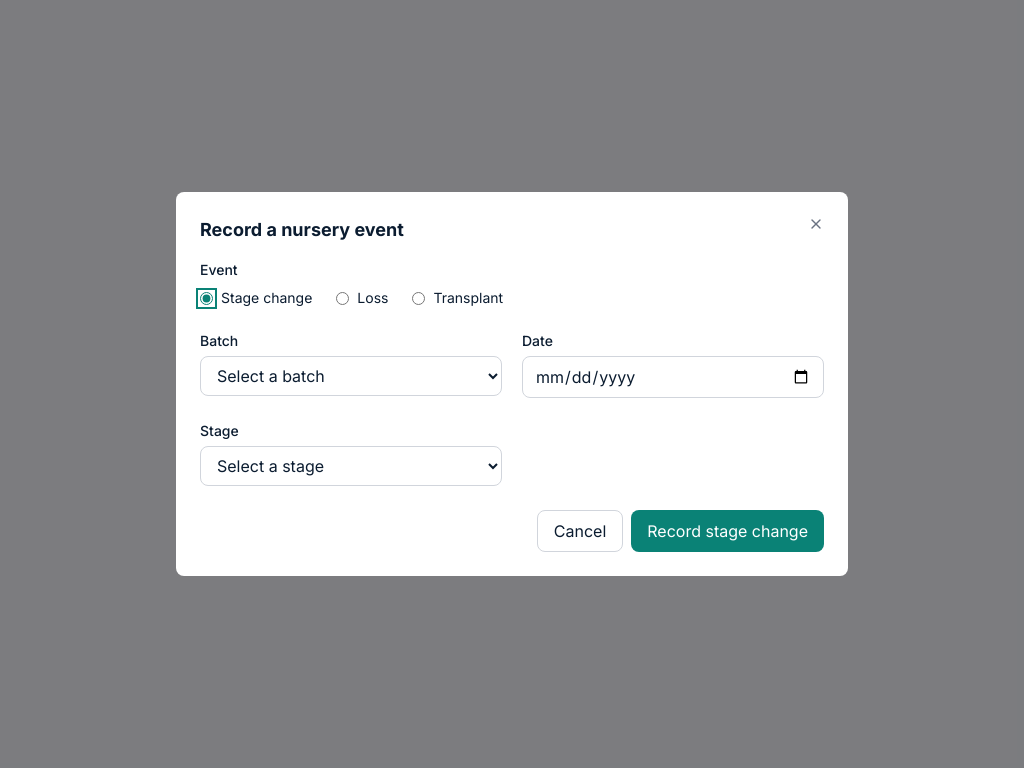
Test: the record a nursery event dialog › validates the fields of the chosen event
Click the radio button labelled "Loss" at (343, 298), box [336,292,349,304]
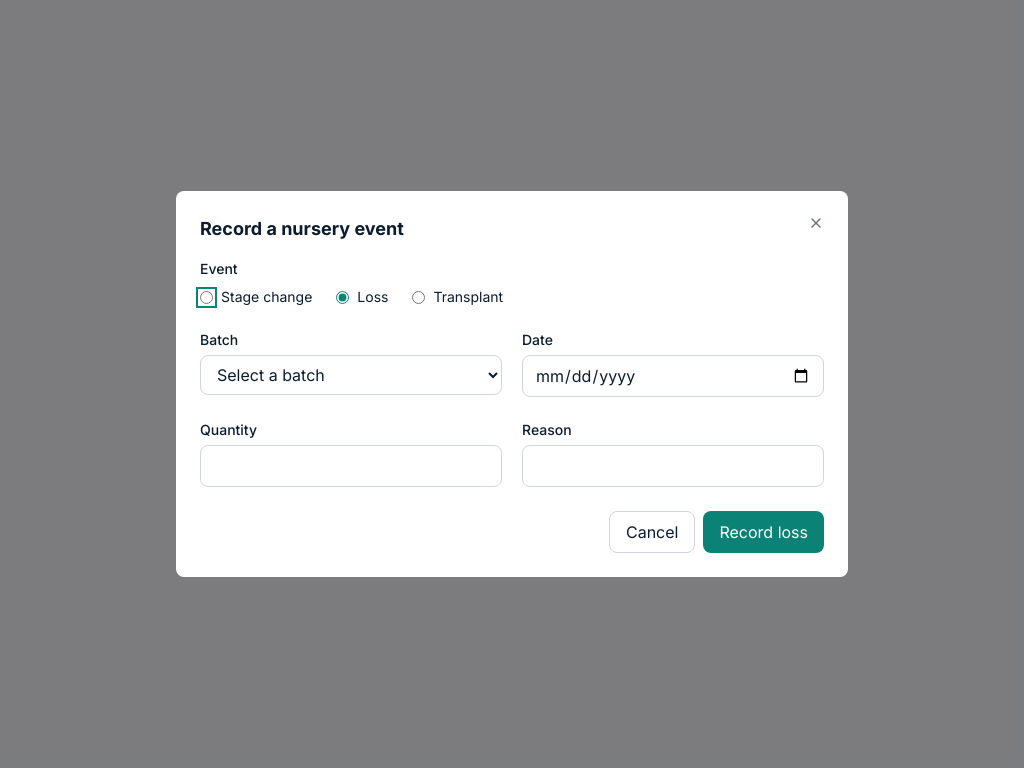
Click the button "Record loss" at (764, 532), box [704,511,824,553]
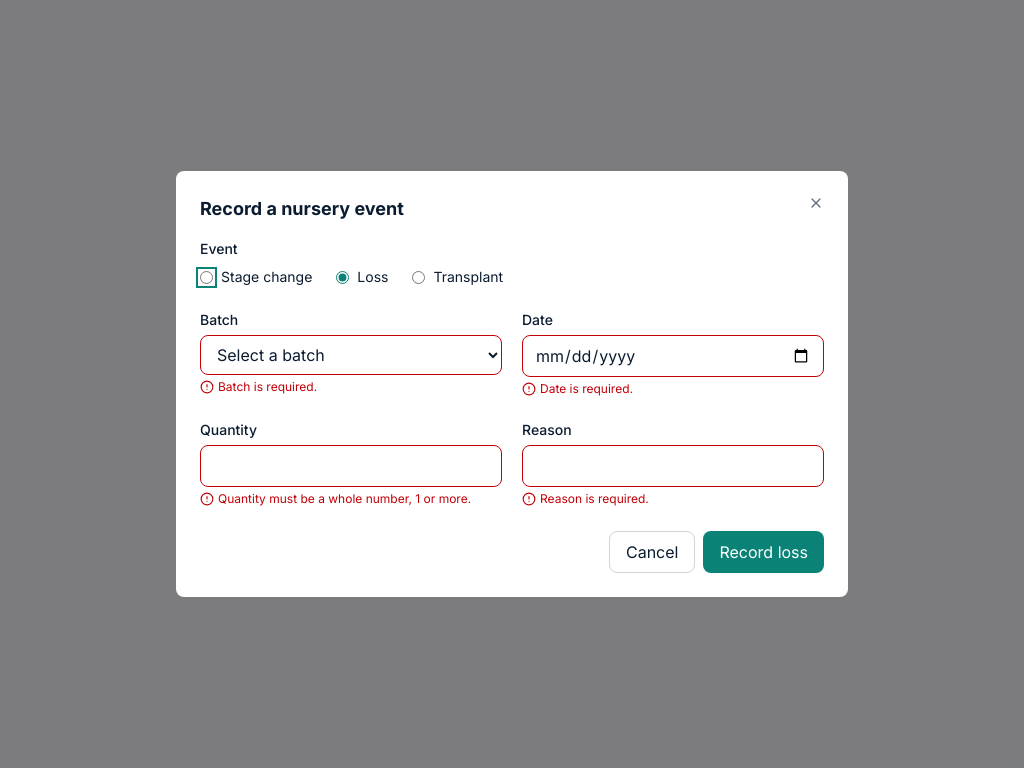
Expected: the text "Batch is required." is shown, [218,379,317,395]
Expected: the text "Date is required." is shown, [540,381,633,397]
Expected: the text "Quantity must be a whole number, 1 or more." is shown, [218,491,471,507]
